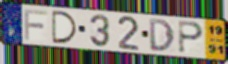2: (117, 15, 140, 52)
3: (88, 13, 112, 48)
D: (50, 9, 79, 45), (148, 18, 176, 53)
F: (23, 8, 50, 41)
P: (177, 20, 205, 55)
